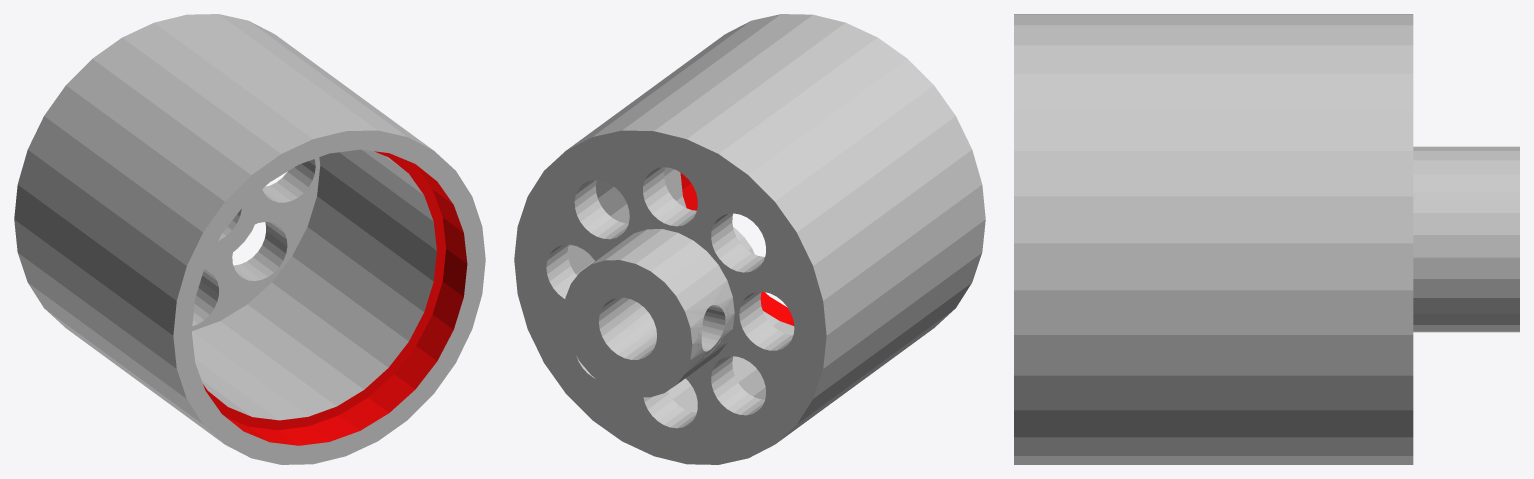
The model's file is cuboaluguel1_01_12714_2_stp_5_6_7.obj.
The picture shows the model from 3 angles, left to right: view 1: azimuth 30°, elevation 25°; view 2: azimuth 150°, elevation 25°; view 3: azimuth 270°, elevation 25°; orthographic projection. The views are drawn at different scales.
Visible parts, largest first — view 1: Object1; view 2: Object1; view 3: Object1.
Boxes of the visible parts, box(x1,y1,x2,y2) form: Object1: box(14, 14, 485, 464); Object1: box(514, 14, 985, 464); Object1: box(1014, 14, 1519, 464).
Bounding box in the file's own units: 17 × 16.91 × 19.
